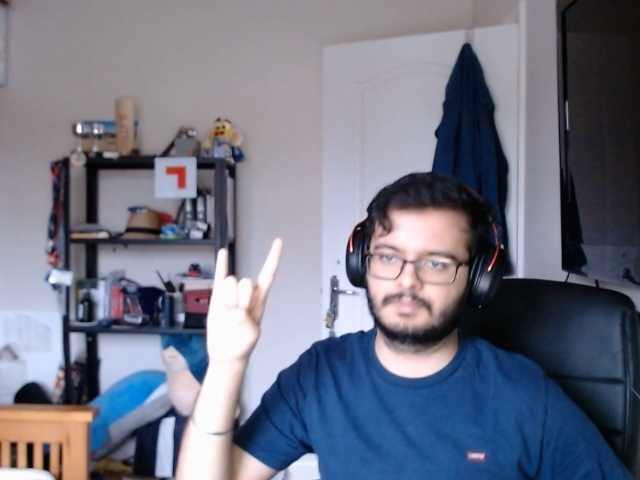Rock on: (168, 222, 295, 401)
